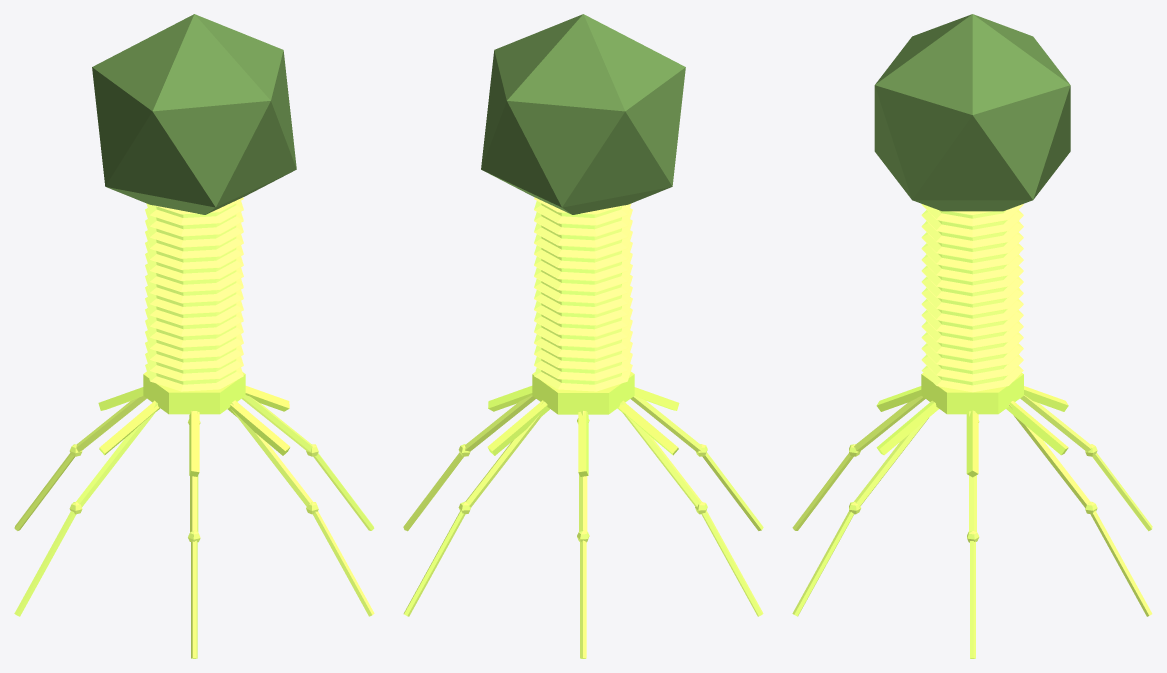
The model's file is Enemy7.fbx.
3 renders of one model, left to right at view 1: azimuth 30°, elevation 25°; view 2: azimuth 150°, elevation 25°; view 3: azimuth 270°, elevation 25°, orthographic.
Visible parts, largest first — view 1: t4_virus; view 2: t4_virus; view 3: t4_virus.
Boxes of the visible parts, box(x1,y1,x2,y2) form: t4_virus: box(14, 14, 374, 658); t4_virus: box(403, 14, 763, 658); t4_virus: box(792, 14, 1152, 658).
Size of the model in its own units: 486 by 724 by 422.
